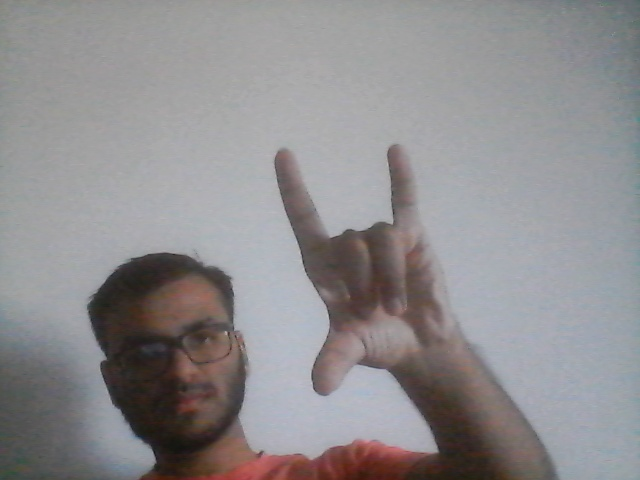I Love You: (266, 135, 459, 408)
